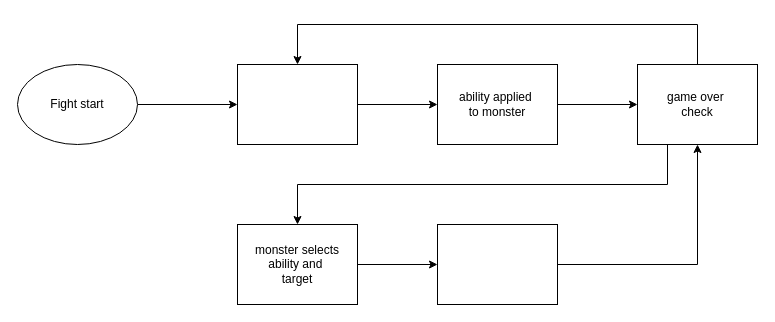
Some shapes in this 775 by 322 pixel diagram are drawn without their labels. The centre of each missing label's shape, as x and y in pixels:
"ability applied to player" goes at [497,264].
"player selects ability and target" goes at [297,104].
